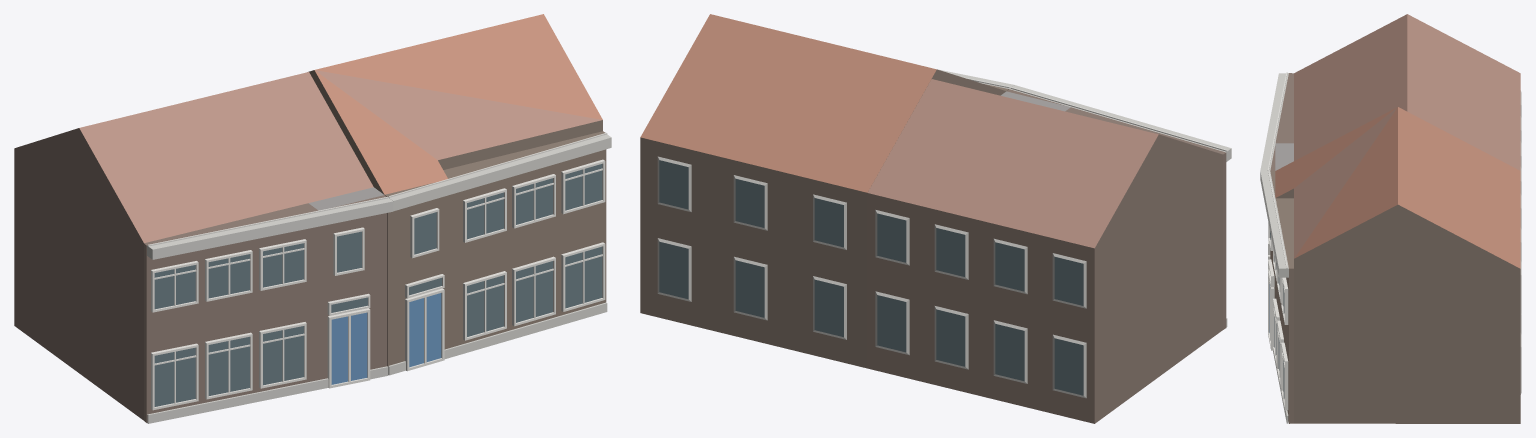
The model's file is chunk-face-kraaipan-63-65.glb.
The picture shows the model from 3 angles, left to right: view 1: azimuth 30°, elevation 25°; view 2: azimuth 150°, elevation 25°; view 3: azimuth 270°, elevation 25°; orthographic projection. The views are drawn at different scales.
Parts seen in each view (by area): view 1: face-kraaipan-63-65; view 2: face-kraaipan-63-65; view 3: face-kraaipan-63-65.
Boxes of the visible parts, x1=… form: face-kraaipan-63-65: x1=14, y1=14, x2=611, y2=423; face-kraaipan-63-65: x1=640, y1=14, x2=1231, y2=423; face-kraaipan-63-65: x1=1260, y1=14, x2=1521, y2=423.
Bounding box in the file's own units: 16.4 × 8.56 × 9.25.
